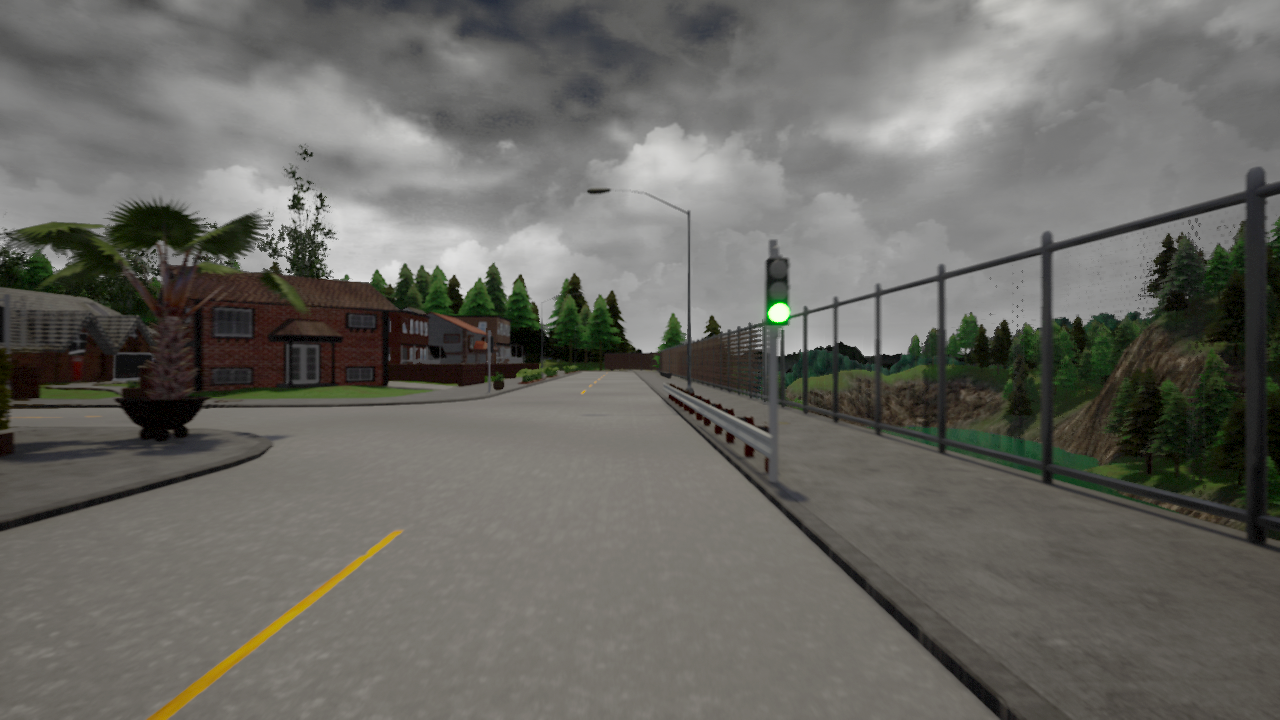green: (763, 256, 792, 327)
